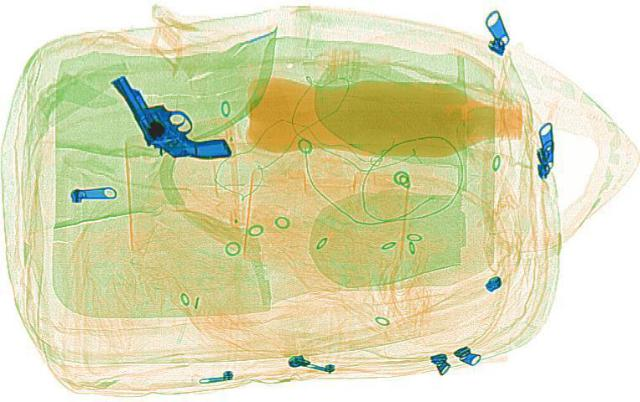Gun: (91, 68, 239, 173)
